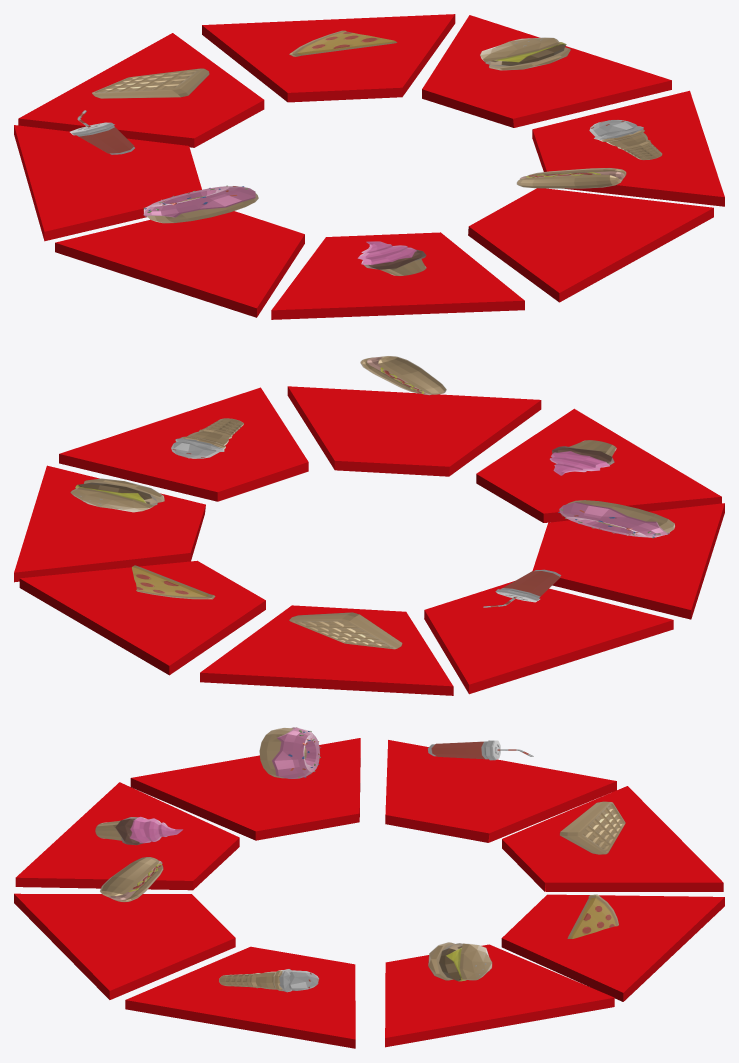
File: OuterRingV_0.1.glb
3 views of the same model, one above another, from view 1: azimuth 30°, elevation 25°; view 2: azimuth 150°, elevation 25°; view 3: azimuth 270°, elevation 25° (orthographic). The views are drawn at different scales.
Parts seen in each view (by area): view 1: Circle.007, Circle.002, Circle.003, Circle.004, Circle.005, Circle.001, Circle.006, Circle.008, donut, waffle, burger, hotdog (+4 smaller); view 2: Circle.007, Circle.001, Circle.003, Circle.008, Circle.006, Circle.002, Circle.005, Circle.004, donut, waffle, burger, hotdog (+4 smaller); view 3: Circle.001, Circle.007, Circle.003, Circle.002, Circle.008, Circle.005, Circle.006, Circle.004, donut, waffle, burger, hotdog (+4 smaller).
Part boxes in pixels (x1,y1,x2,y2): Circle.007: [468, 188, 713, 302]; Circle.002: [55, 211, 304, 317]; Circle.003: [202, 14, 455, 102]; Circle.004: [271, 232, 524, 319]; Circle.005: [422, 15, 671, 127]; Circle.001: [14, 125, 201, 241]; Circle.006: [18, 33, 264, 147]; Circle.008: [532, 90, 724, 206]; donut: [143, 185, 258, 223]; waffle: [92, 68, 209, 98]; burger: [480, 37, 570, 70]; hotdog: [516, 168, 626, 188]; Circle.007: [287, 386, 541, 476]; Circle.001: [424, 581, 673, 694]; Circle.003: [19, 560, 265, 675]; Circle.008: [59, 387, 308, 501]; Circle.006: [200, 605, 453, 695]; Circle.002: [532, 503, 724, 619]; Circle.005: [14, 465, 205, 582]; Circle.004: [476, 408, 721, 522]; donut: [558, 500, 675, 538]; waffle: [289, 612, 402, 649]; burger: [70, 478, 164, 512]; hotdog: [360, 356, 446, 395]; Circle.001: [385, 740, 616, 842]; Circle.007: [14, 893, 235, 999]; Circle.003: [501, 894, 724, 1001]; Circle.002: [130, 738, 360, 840]; Circle.008: [125, 946, 355, 1048]; Circle.005: [385, 944, 614, 1047]; Circle.006: [502, 786, 723, 891]; Circle.004: [15, 782, 239, 890]; donut: [259, 727, 321, 778]; waffle: [559, 801, 625, 854]; burger: [428, 942, 492, 981]; hotdog: [100, 857, 163, 902].
Size of what is drawn, in the model's own units: 4.86 by 0.4462 by 4.85.
Materials: 9 (8 with a texture image).
